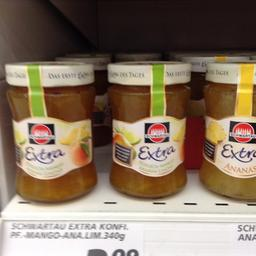jam: (2, 60, 96, 202), (106, 60, 193, 198), (198, 59, 255, 200)
